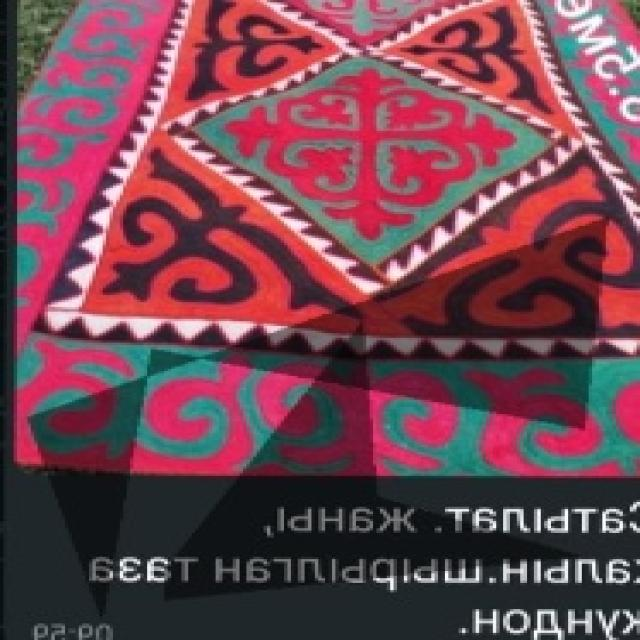Unity: (211, 65, 538, 259)
